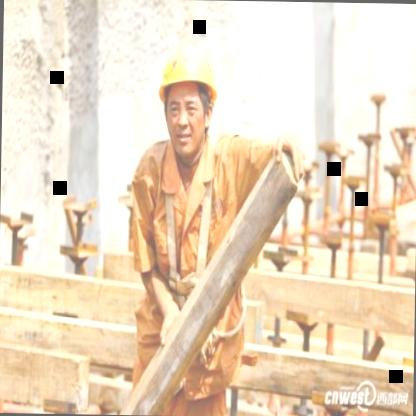helmet: (147, 31, 225, 161)
